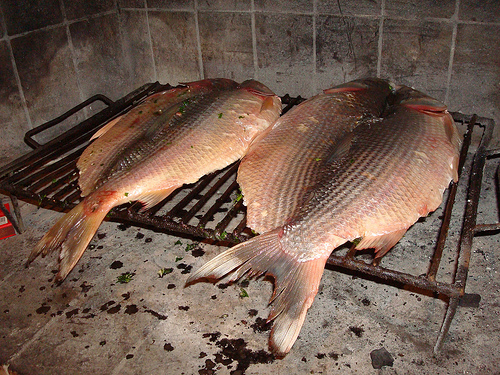fish: (181, 71, 464, 360)
